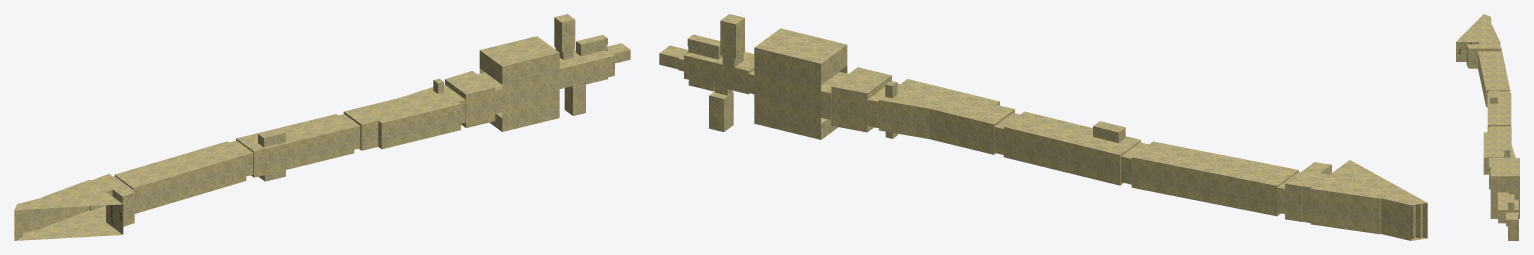
File: KV2-ASE.obj
The picture shows the model from 3 angles, left to right: view 1: azimuth 30°, elevation 25°; view 2: azimuth 150°, elevation 25°; view 3: azimuth 270°, elevation 25°; orthographic projection. The views are drawn at different scales.
Parts seen in each view (by area): view 1: mat0model0surf60, mat0model0surf124, mat0model0surf106, mat0model0surf123, mat0model0surf93, mat0model0surf134, mat0model0surf82, mat0model0surf137, mat0model0surf105, mat0model0surf56, mat0model0surf45, mat0model0surf72 (+10 smaller); view 2: mat0model0surf58, mat0model0surf126, mat0model0surf101, mat0model0surf123, mat0model0surf134, mat0model0surf82, mat0model0surf144, mat0model0surf7, mat0model0surf105, mat0model0surf96, mat0model0surf56, mat0model0surf94 (+8 smaller); view 3: mat0model0surf123, mat0model0surf134, mat0model0surf82, mat0model0surf105, mat0model0surf51, mat0model0surf56, mat0model0surf129, mat2model0surf0, mat0model0surf16, mat0model0surf35, mat0model0surf12, mat0model0surf124 (+13 smaller).
Boxes of the visible parts, x1,y1,x2,y2 form: mat0model0surf60: (502,52,559,131); mat0model0surf124: (133,155,246,213); mat0model0surf106: (254,127,354,177); mat0model0surf123: (115,141,245,188); mat0model0surf93: (381,104,460,149); mat0model0surf134: (14,174,133,210); mat0model0surf82: (344,87,460,124); mat0model0surf137: (15,205,122,240); mat0model0surf105: (236,114,353,151); mat0model0surf56: (480,36,558,66); mat0model0surf45: (559,55,614,88); mat0model0surf72: (466,87,495,127); mat0model0surf58: (754,47,820,139); mat0model0surf126: (1131,157,1277,216); mat0model0surf101: (994,127,1120,185); mat0model0surf123: (1132,141,1298,185); mat0model0surf134: (1285,160,1427,205); mat0model0surf82: (879,79,1014,124); mat0model0surf144: (1310,189,1380,234); mat0model0surf7: (678,20,754,94); mat0model0surf105: (1004,111,1140,154); mat0model0surf96: (929,109,993,154); mat0model0surf56: (754,28,846,63); mat0model0surf94: (879,100,929,138); mat0model0surf123: (1478,52,1509,90); mat0model0surf134: (1456,14,1501,48); mat0model0surf82: (1483,127,1515,157); mat0model0surf105: (1487,93,1511,124); mat0model0surf51: (1490,176,1519,218); mat0model0surf56: (1490,158,1519,176); mat0model0surf129: (1468,48,1501,68); mat2model0surf0: (1456,42,1478,61); mat0model0surf16: (1498,192,1518,209); mat0model0surf35: (1509,176,1518,194); mat0model0surf12: (1498,207,1518,226); mat0model0surf124: (1478,53,1485,105).
Size of the model in its own units: 4152 by 596 by 556.
